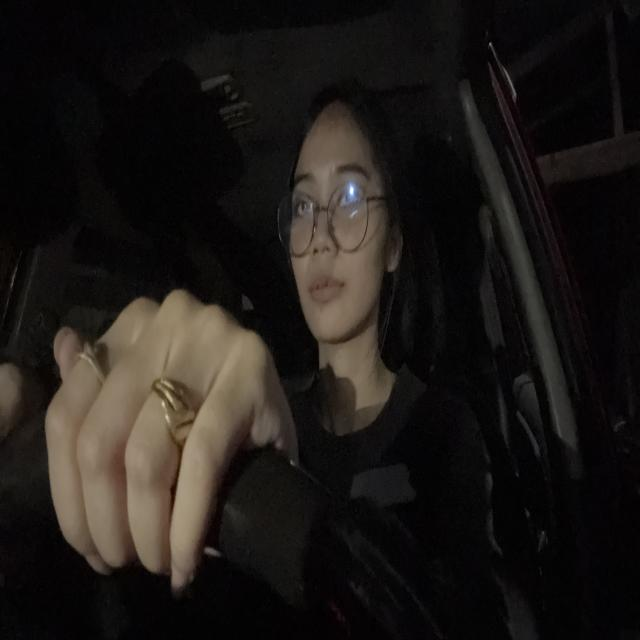open: (335, 156, 370, 226), (287, 164, 315, 238)
